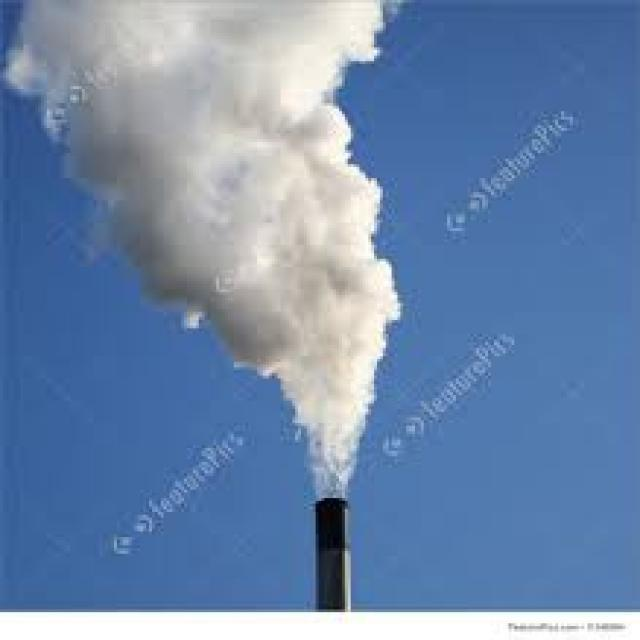Smoke: (0, 0, 404, 502)
